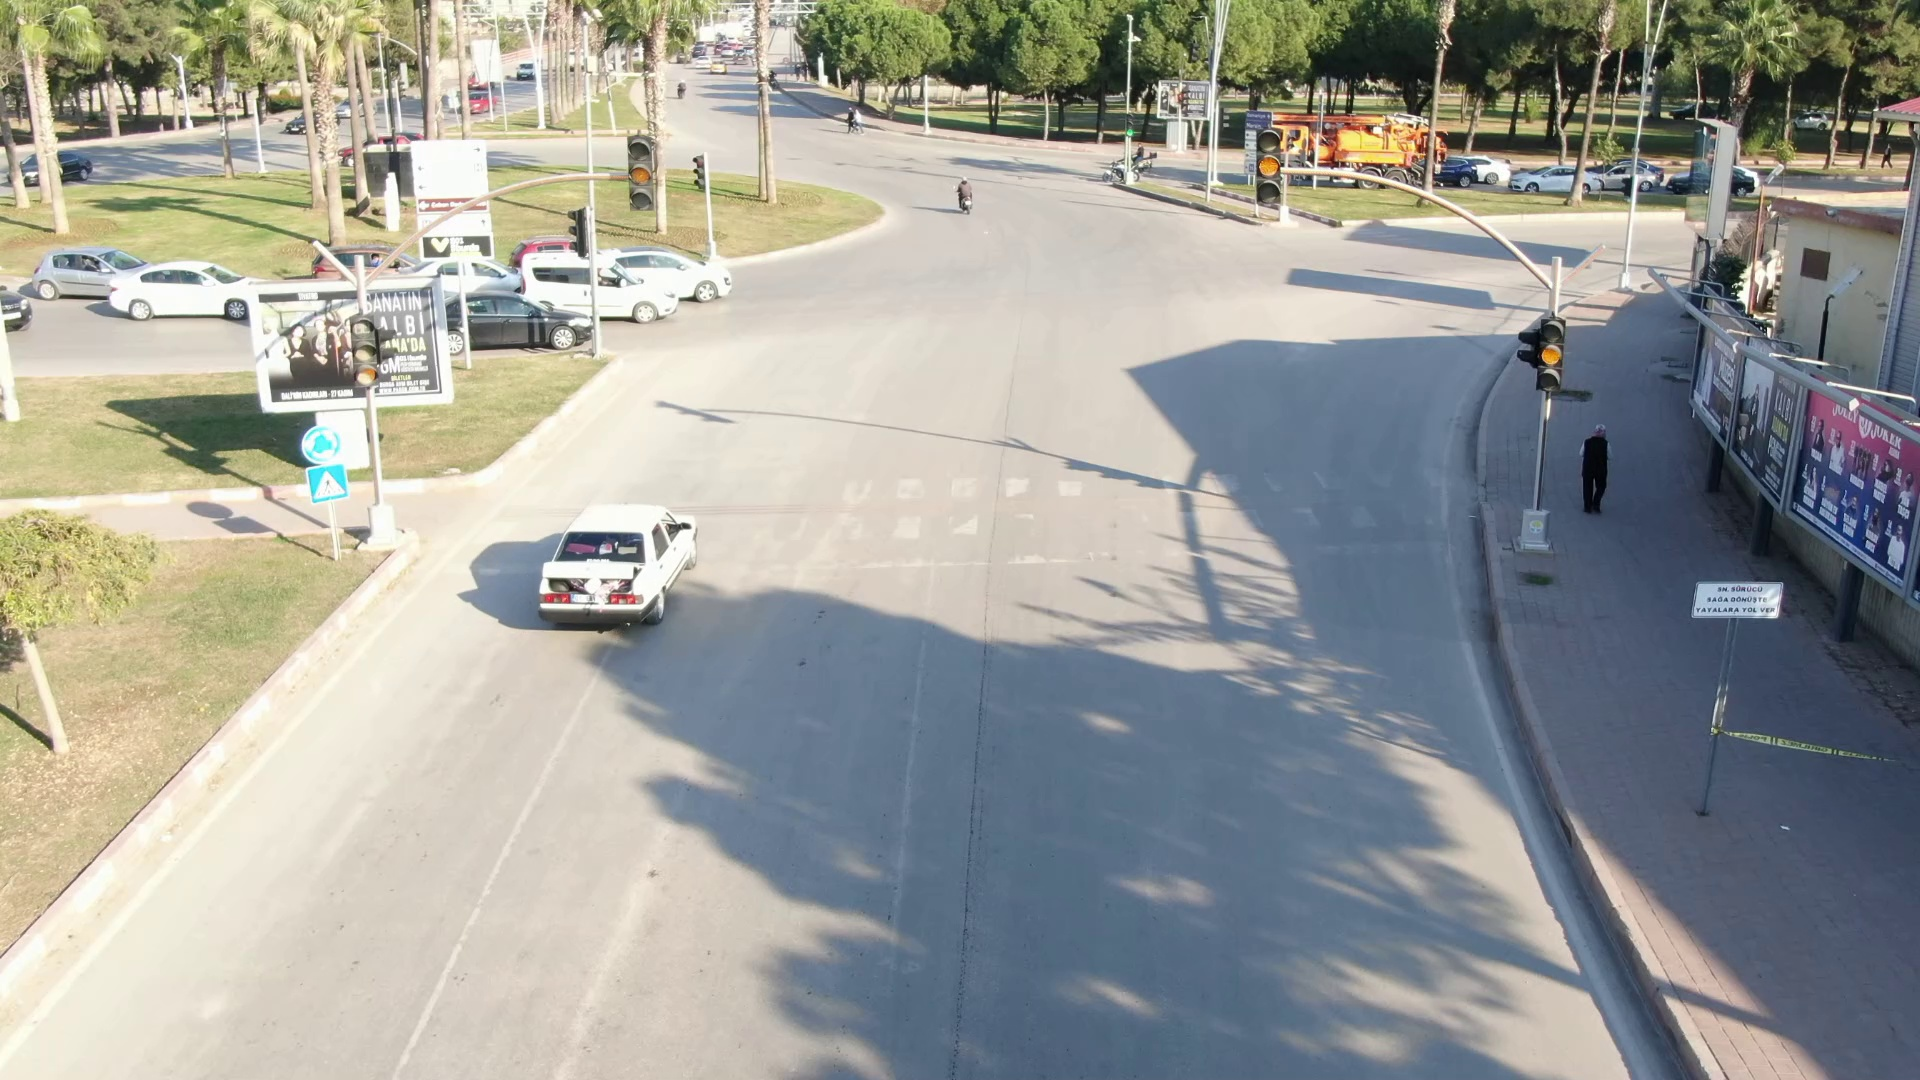car: (523, 496, 714, 623), (429, 282, 592, 355), (521, 245, 674, 321), (576, 241, 737, 298), (96, 261, 263, 314), (15, 241, 153, 298)
person: (1565, 404, 1623, 527), (945, 174, 976, 214)
